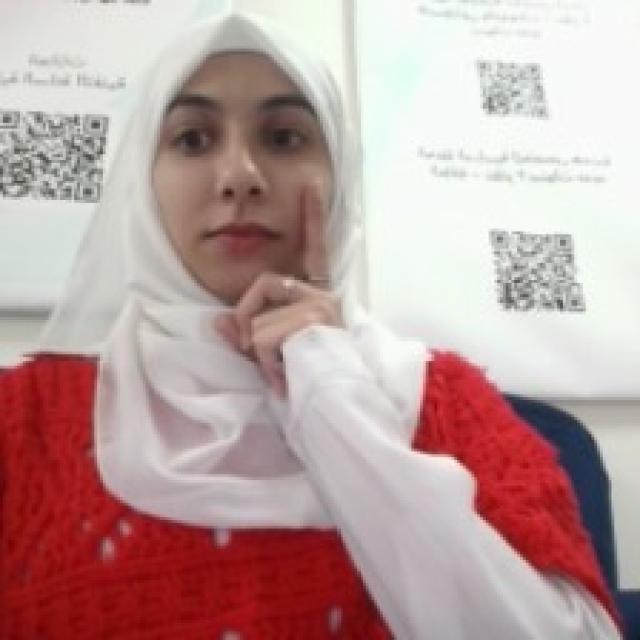mother: (206, 172, 351, 412)
